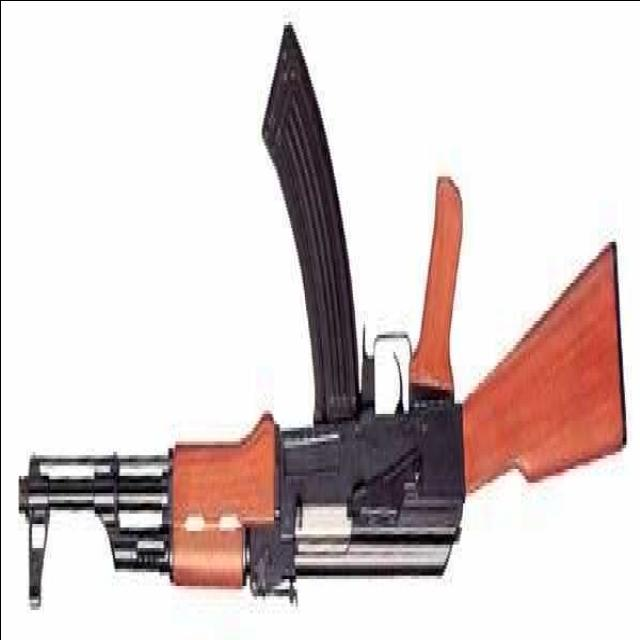heavyweapon: (12, 25, 628, 617)
